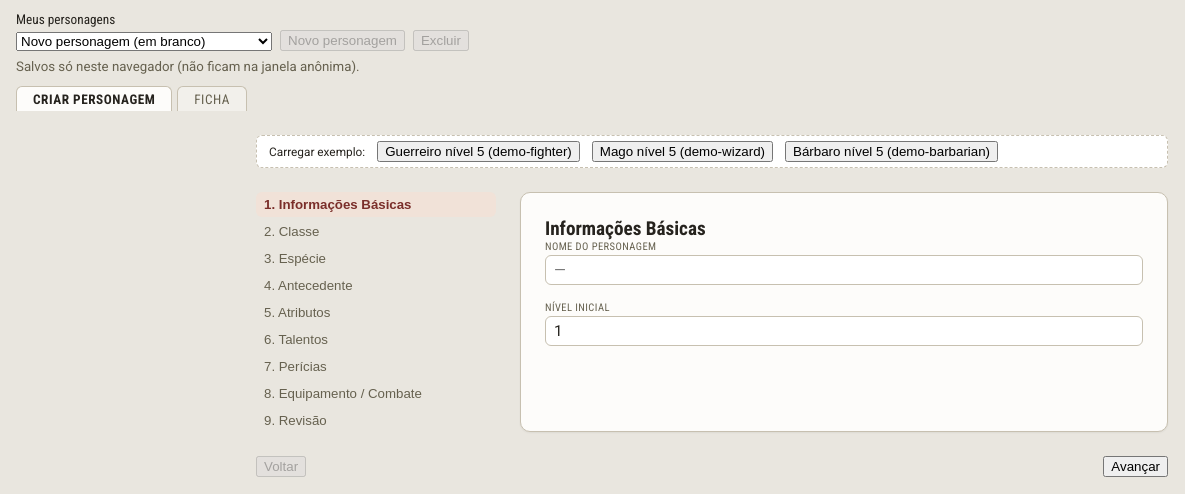
Test: App — modo padrão é o Builder (decisão aprovada §10: interface primária de criação) › Avançar move para a próxima etapa visível; Voltar retorna
The width and height of the screenshot is (1185, 494).
Click the button "Avançar" at (1136, 467), box [1103,456,1168,478]
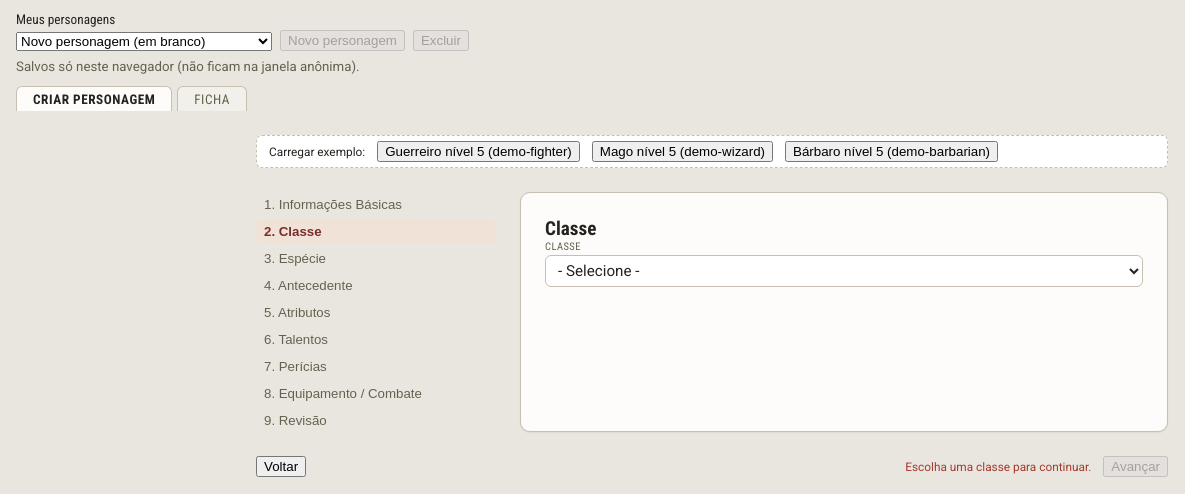
Expected: the heading "Classe" is shown, [545,217,596,240]
Click the button "Voltar" at (281, 467), box [256,456,306,478]
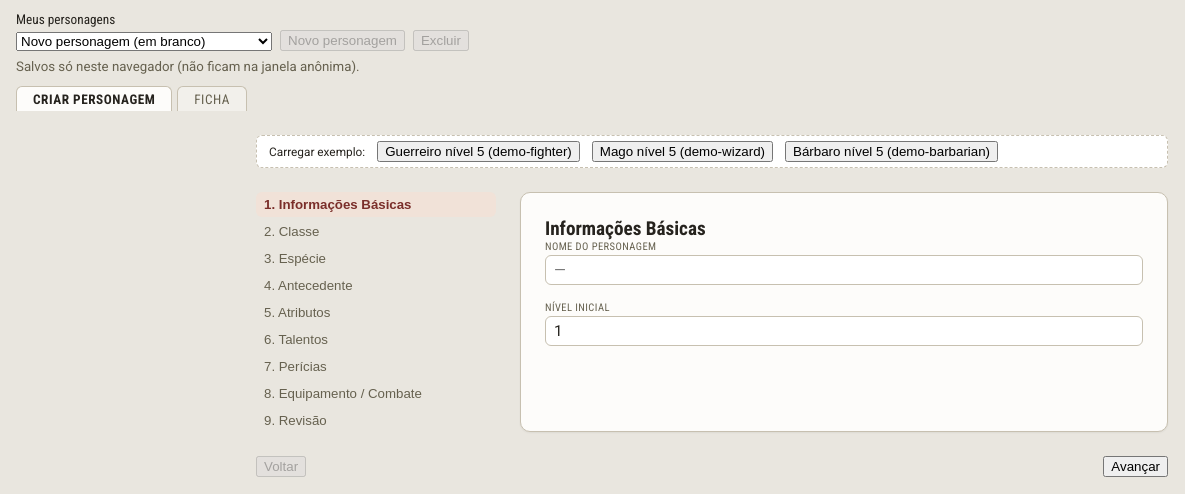
Expected: the heading "Informações Básicas" is shown, [545,217,706,240]
